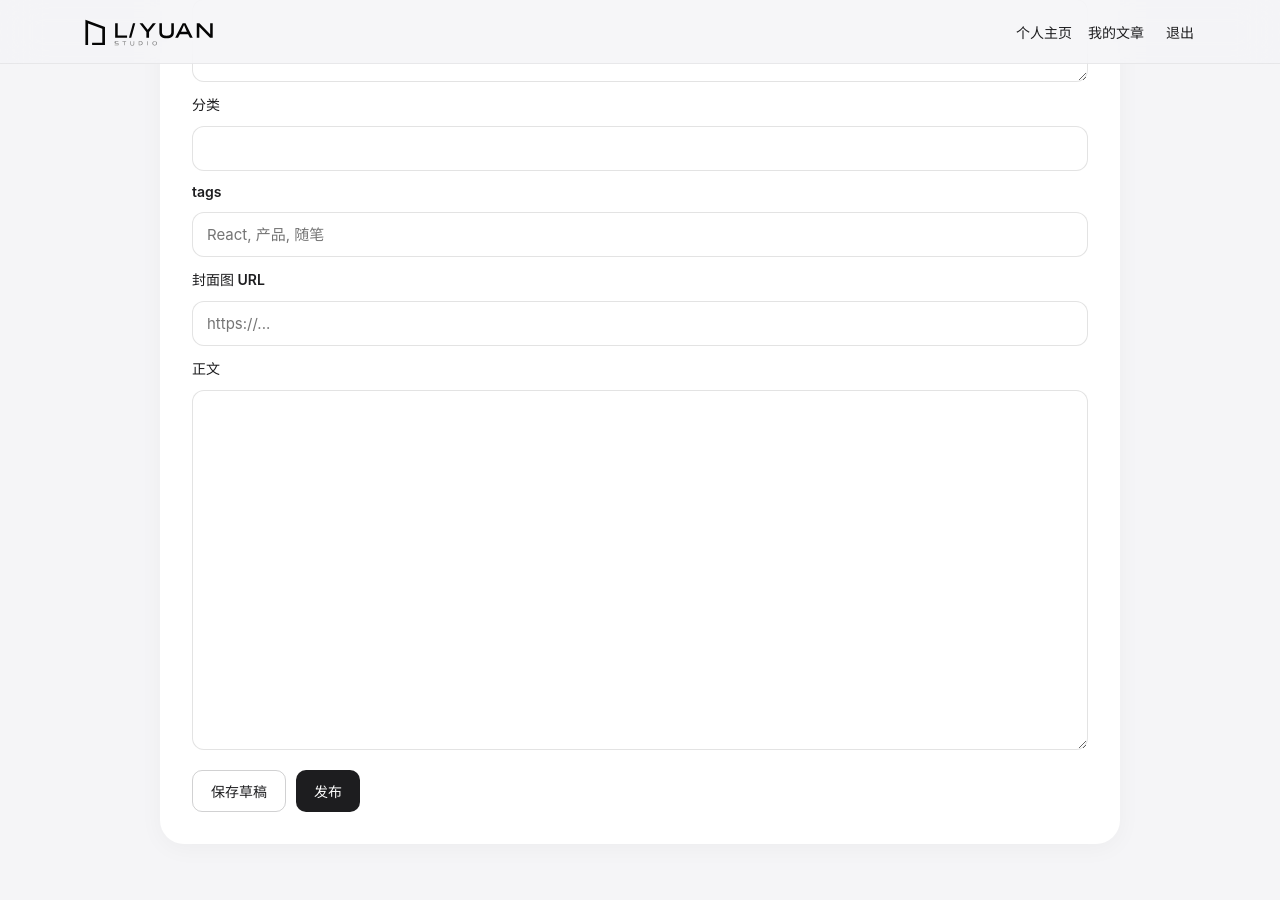
Test: ProfilePage › does not expose raw editor save failures for {}
(page scrolled)
Click the button "发布" at x=328, y=791, box [296,770,360,812]
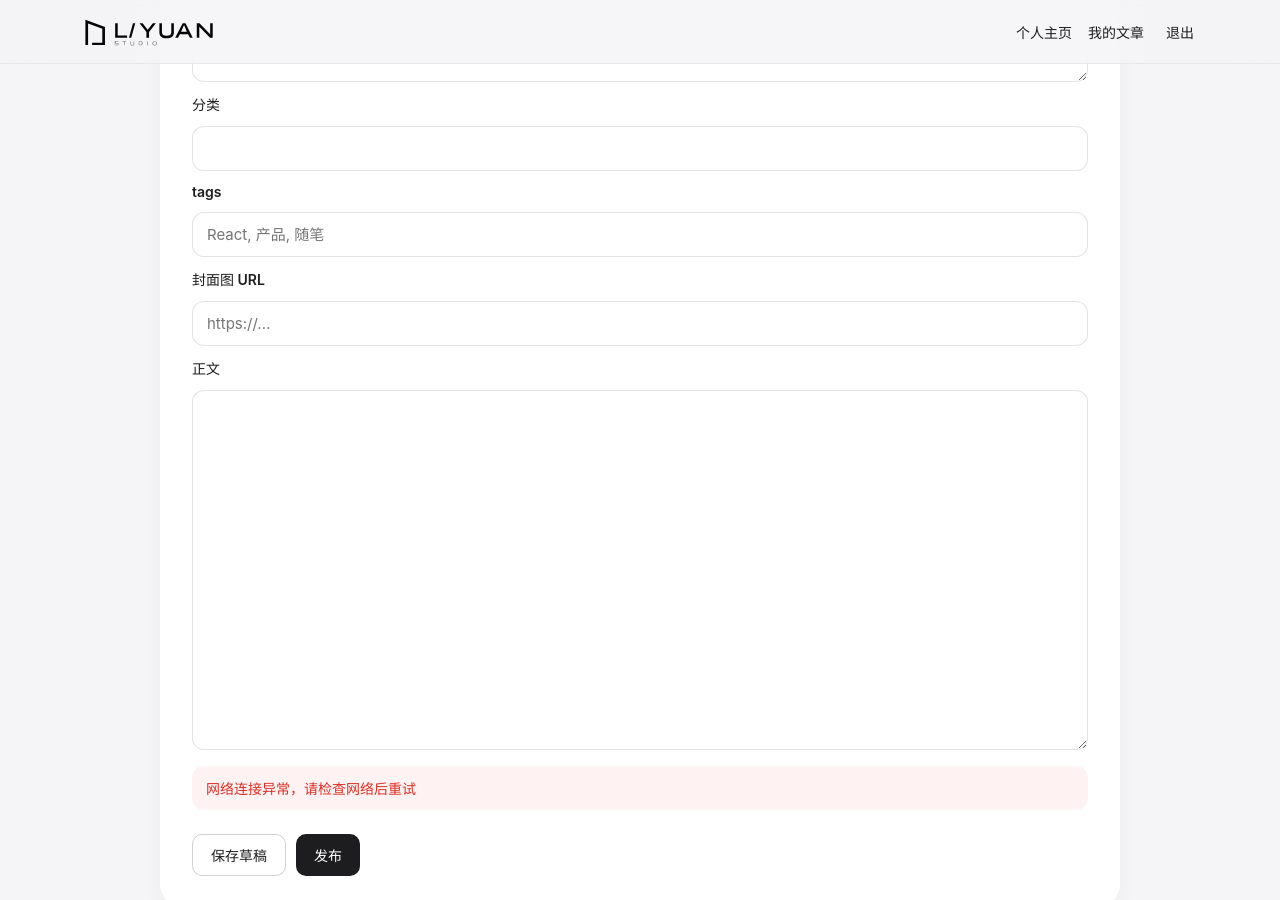
Expected: the message reads "网络连接异常，请检查网络后重试", [206,780,416,797]
